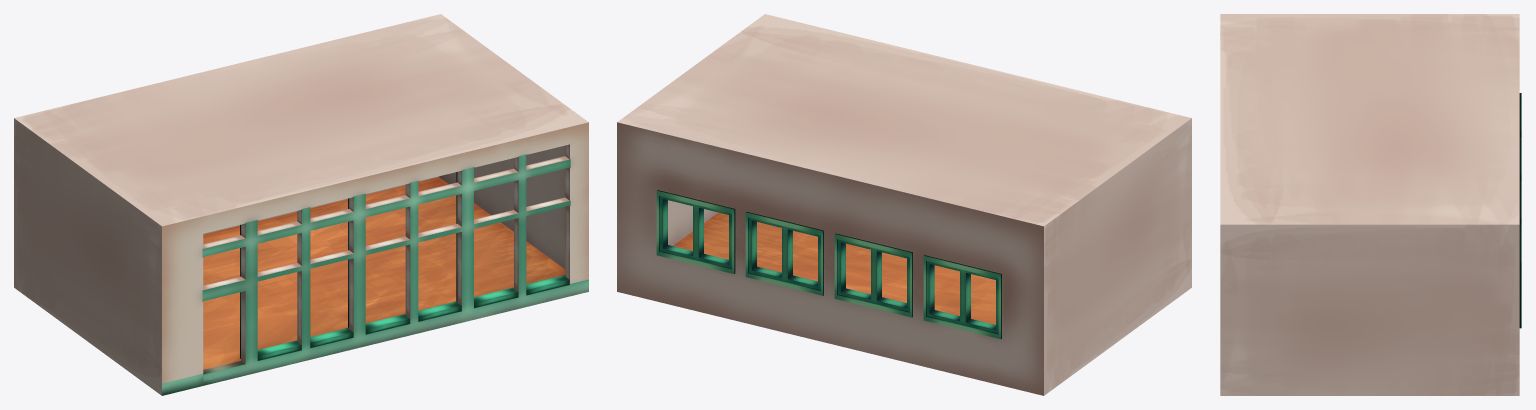
File: monster Dungeon in.fbx
The picture shows the model from 3 angles, left to right: view 1: azimuth 30°, elevation 25°; view 2: azimuth 150°, elevation 25°; view 3: azimuth 270°, elevation 25°; orthographic projection.
Visible parts, largest first — view 1: Box020; view 2: Box020; view 3: Box020.
Boxes of the visible parts, box(x1,y1,x2,y2) form: Box020: box(14, 14, 588, 395); Box020: box(617, 14, 1191, 395); Box020: box(1220, 14, 1521, 395).
Bounding box in the file's own units: 259 × 98.26 × 156.
